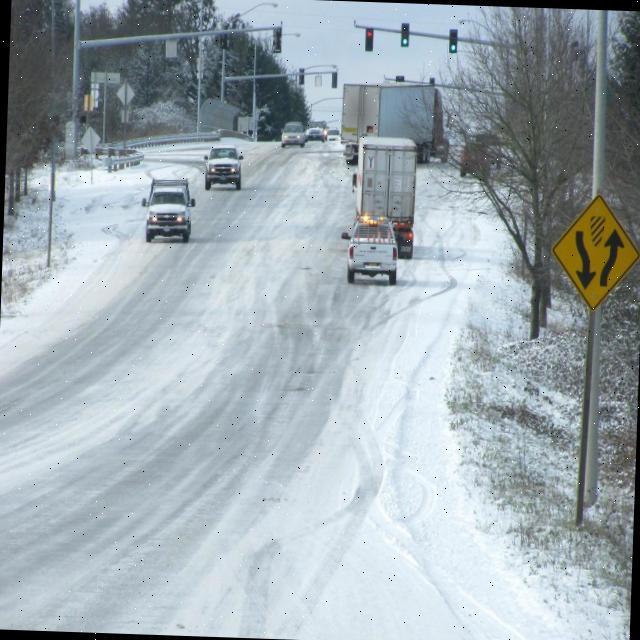bus: (347, 134, 419, 270), (339, 79, 447, 165)
car: (143, 173, 194, 243), (345, 214, 395, 282), (203, 147, 243, 190), (459, 136, 490, 182), (280, 122, 304, 146), (305, 119, 324, 141), (325, 125, 340, 146)
